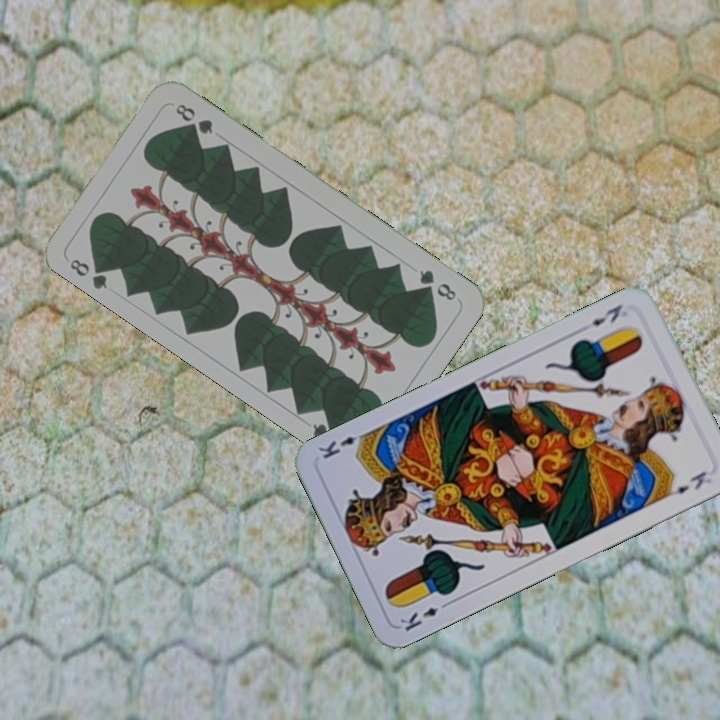EK: (395, 597, 453, 634), (587, 300, 625, 329)
G8: (65, 254, 112, 292), (415, 265, 459, 304)
